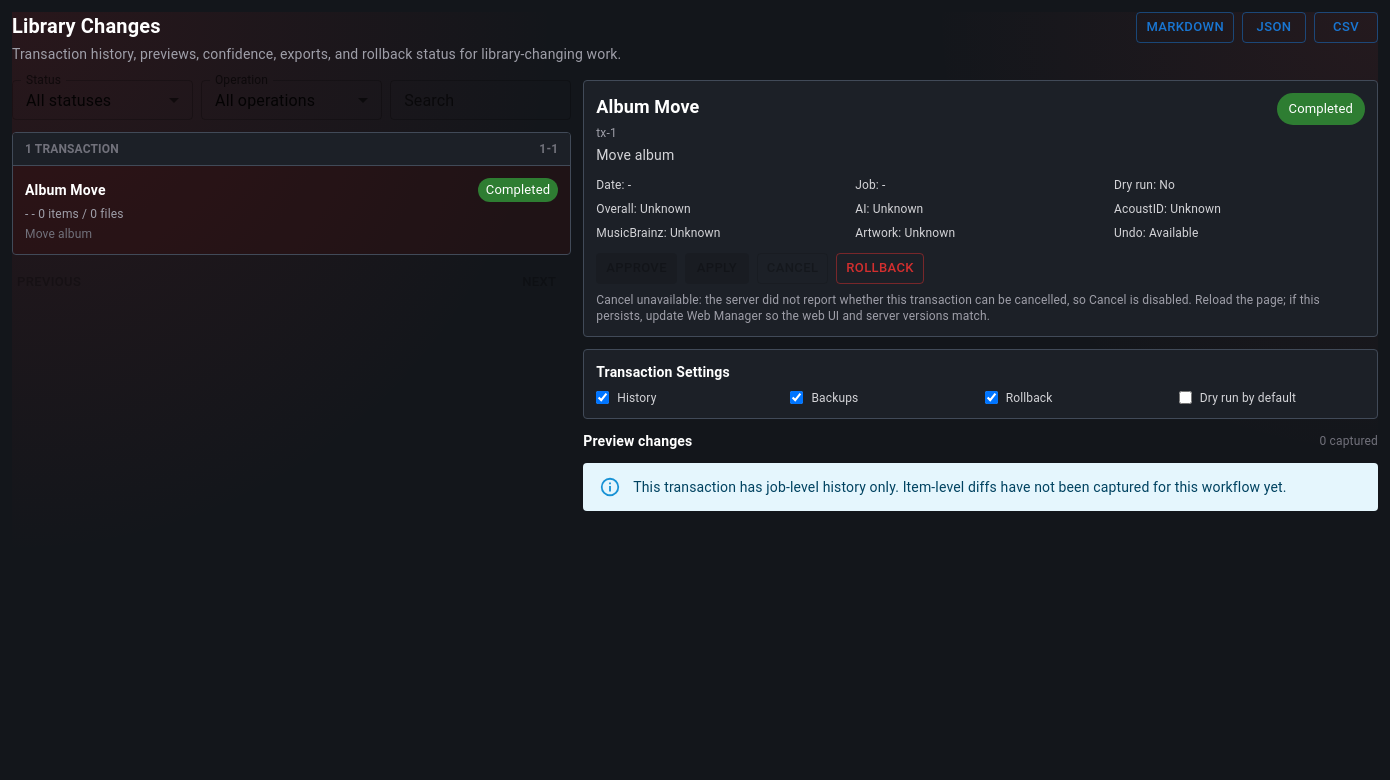
Test: Library Changes 0.4 transaction contract (#348) › reverts a rejected setting and shows the server message
The width and height of the screenshot is (1390, 780).
Click the checkbox labelled "Backups" at {"x": 797, "y": 398}, box [790,391,803,404]
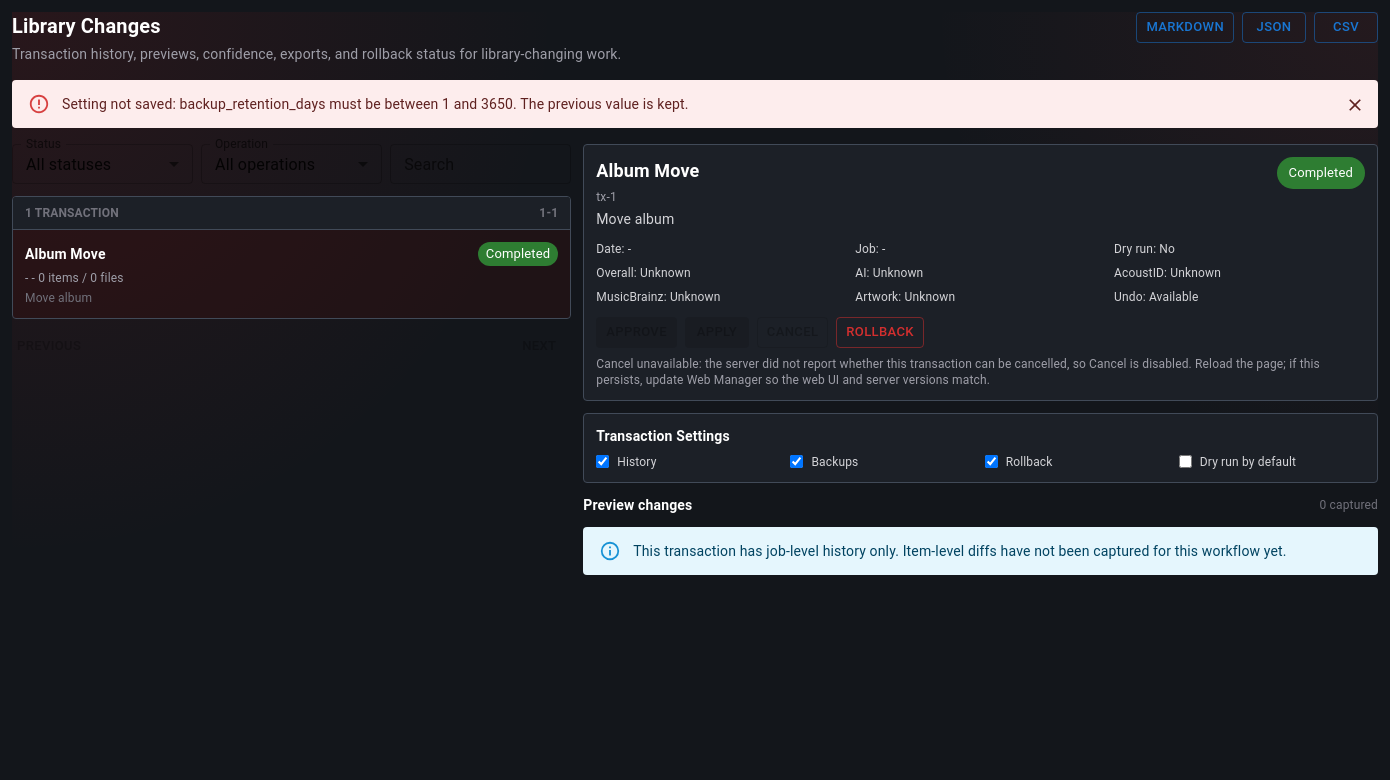
Expected: the checkbox labelled "Backups" is checked, [790,455,803,468]
Expected: the text "Setting not saved: backup_retention_days must be between 1 and 3650" is shown, [62,96,689,112]
